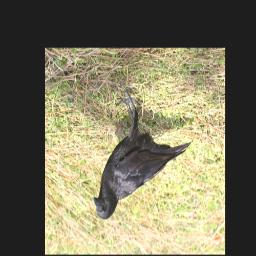Crow: (94, 85, 194, 221)
